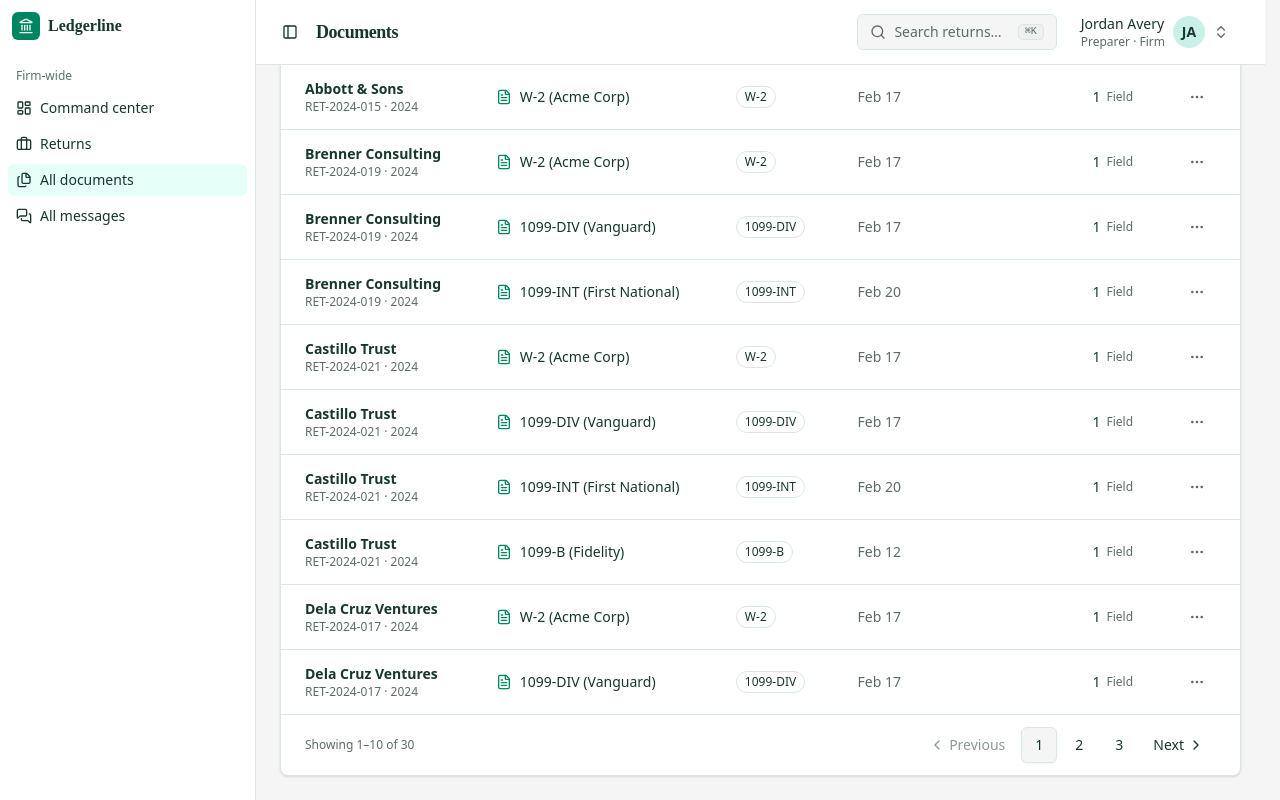
Test: router › pages the Documents pool
The width and height of the screenshot is (1280, 800).
(page scrolled)
Expected: the link "Reyes Household" is not shown
Advancing pages reveals later clients.
Click the link named "Go to page 3".
click(1119, 744)  # box [1115,734,1123,754]
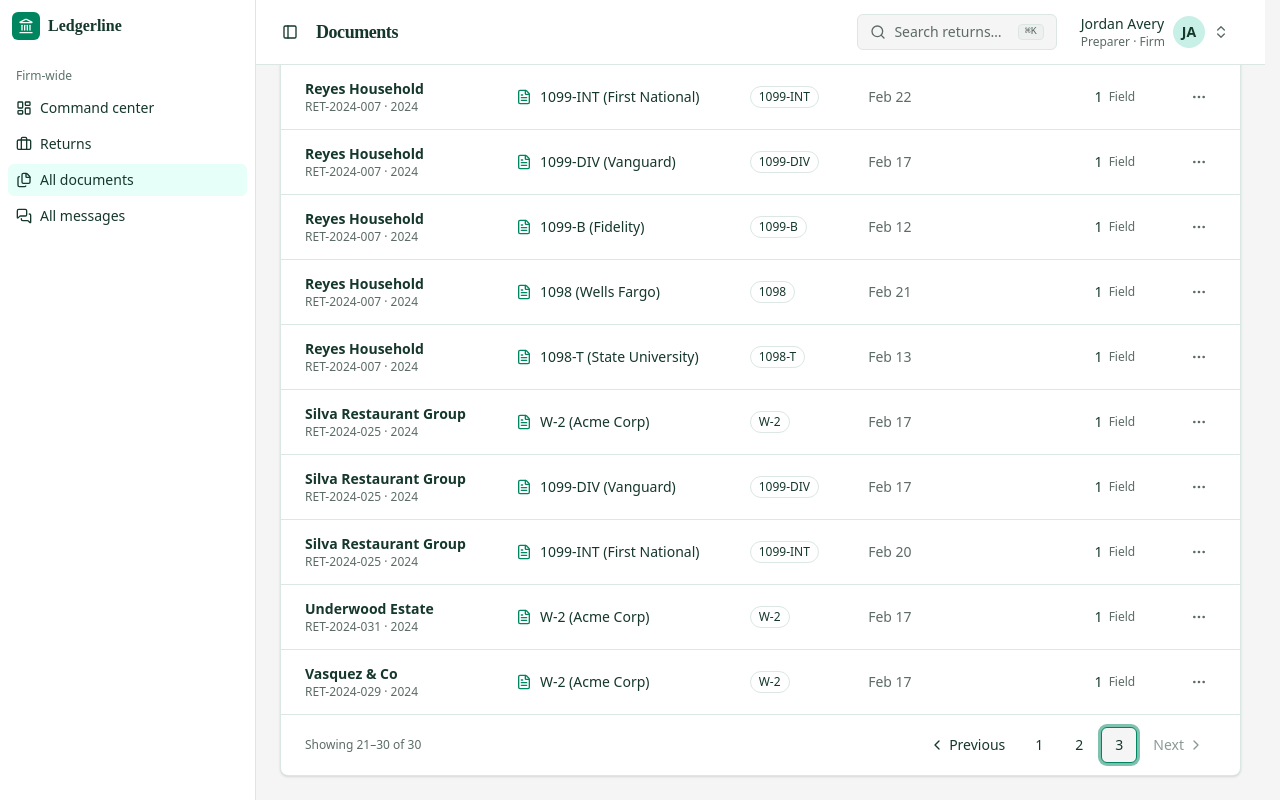
Result: the link "Reyes Household RET-2024-007 · 2024" in the row of "Feb 22" is shown at [305,78,424,114]
